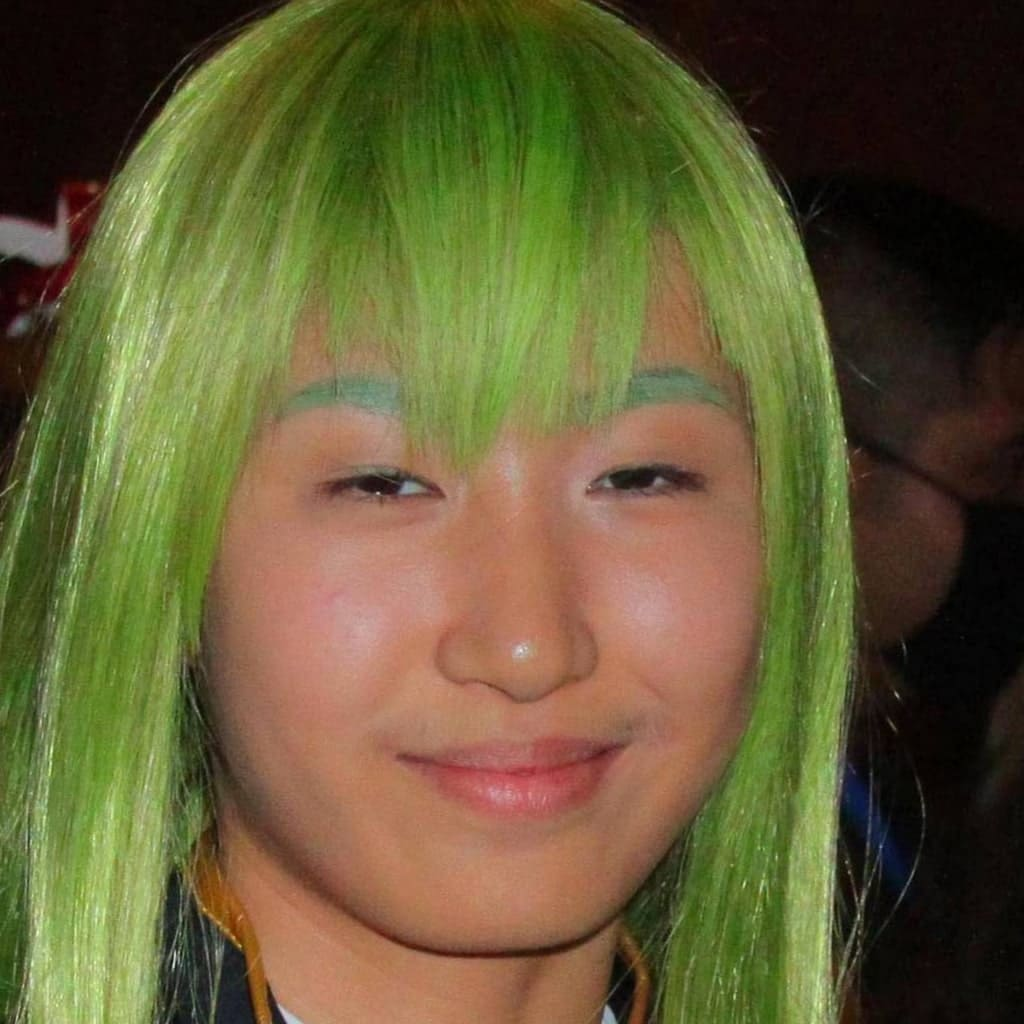without_mask: (233, 363, 760, 900)
